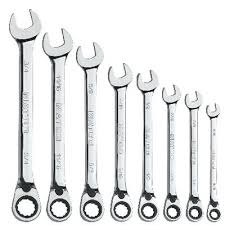wrench: (204, 99, 225, 223)
